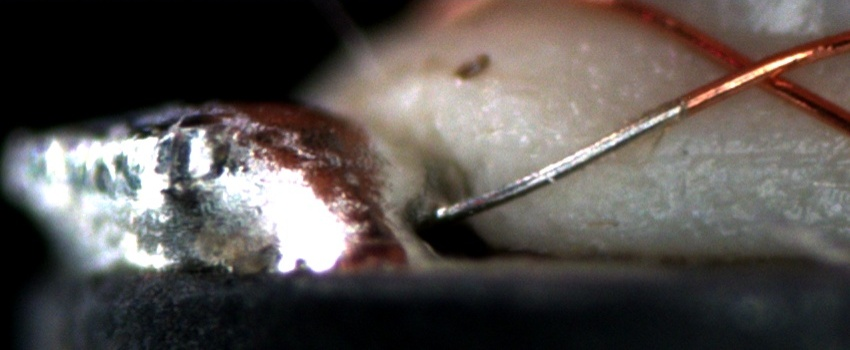CL: (708, 41, 808, 100)
DL: (634, 123, 850, 187)
TS: (431, 97, 683, 222)
